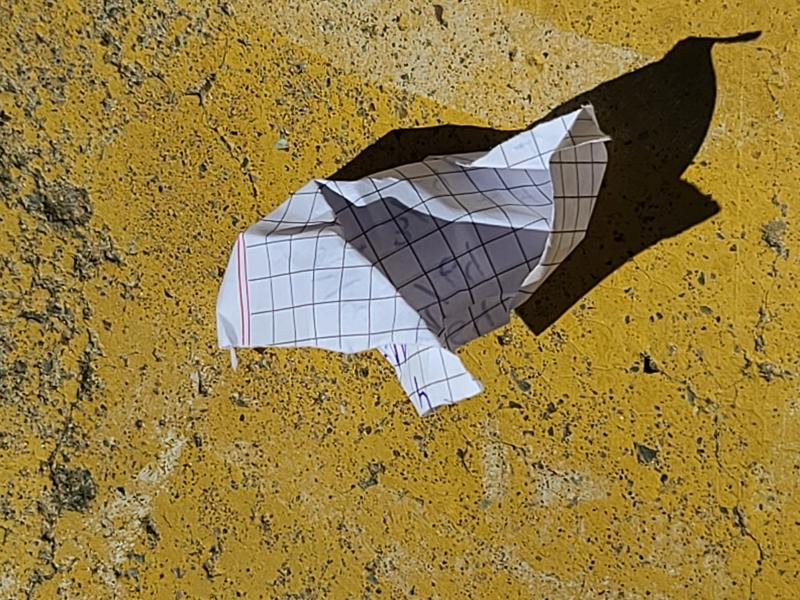papel: (215, 106, 611, 416)
